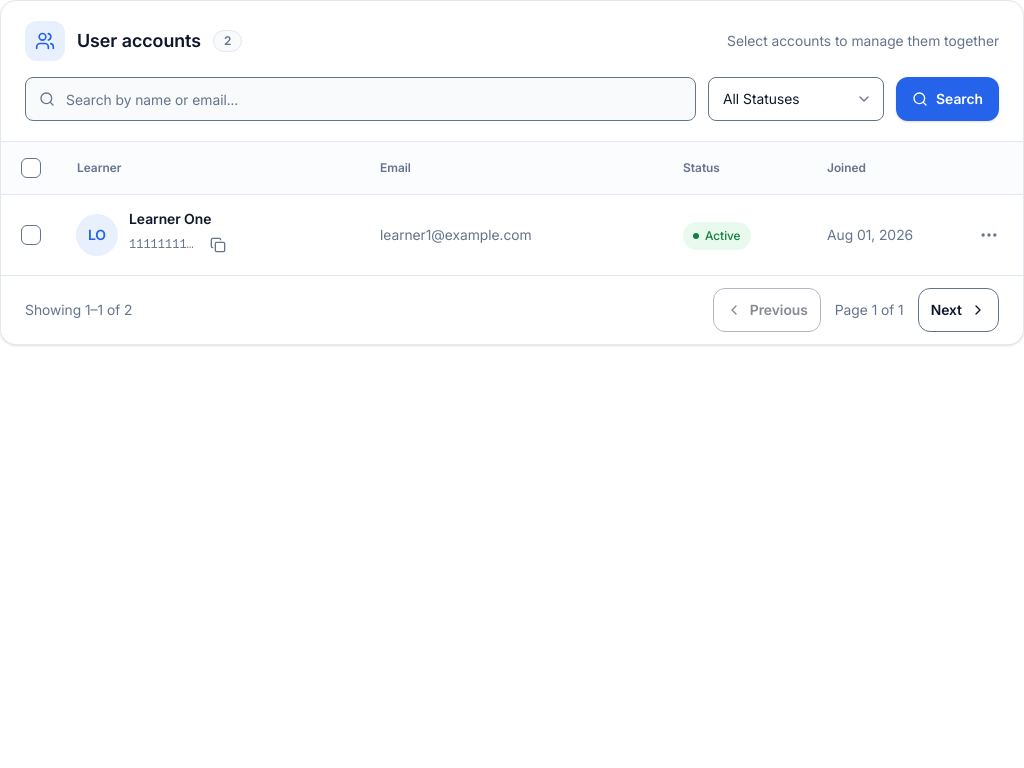
Scenario: Admin Shell & Operations › inspects learner details with audit notice
This screenshot has width=1024, height=768.
Step 1. Click the button named "Actions for Learner One" → (989, 235), box [967,213,1011,257]
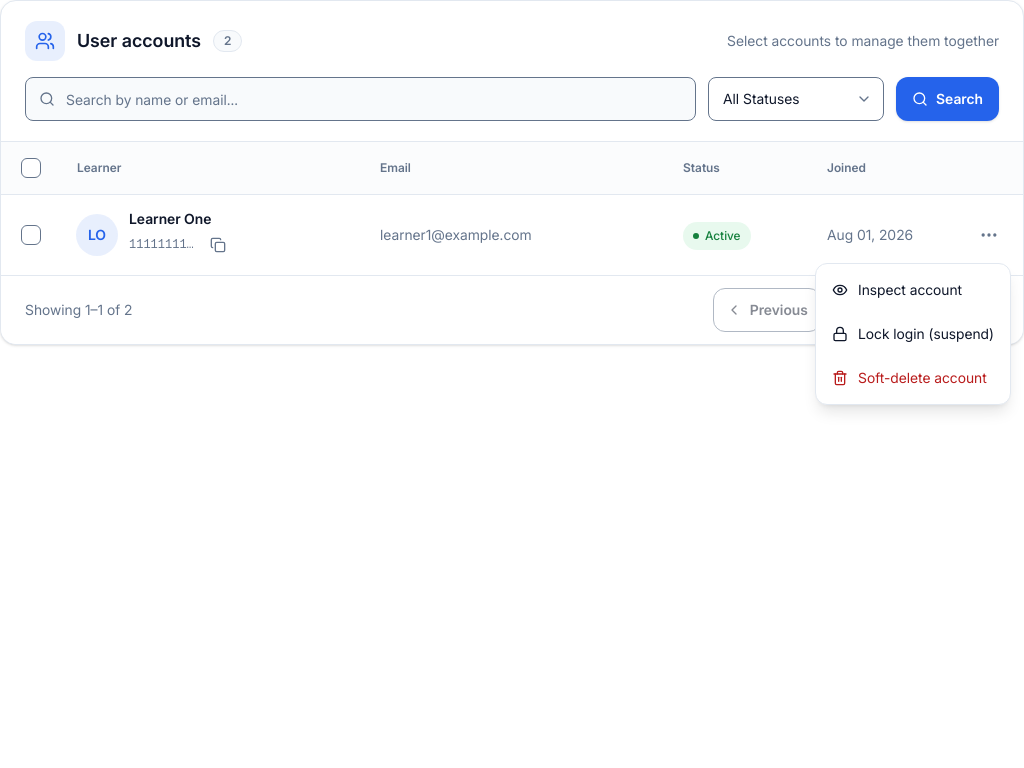
Step 2. Click the menu item "Inspect account" → (897, 290), box [832,281,962,298]
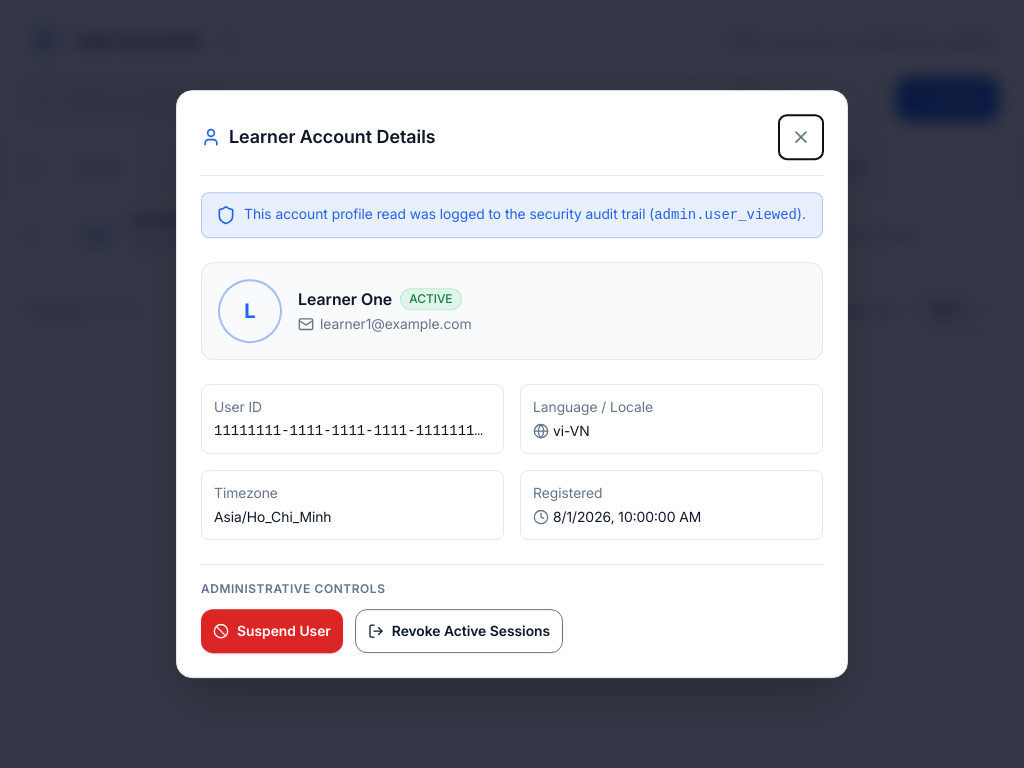
Now the heading "Learner Account Details" is shown, box [201,126,436,148]
Now the text "admin.user_viewed" is shown, box [654,207,797,223]
Now the text "vi-VN" is shown, box [533,422,590,439]
